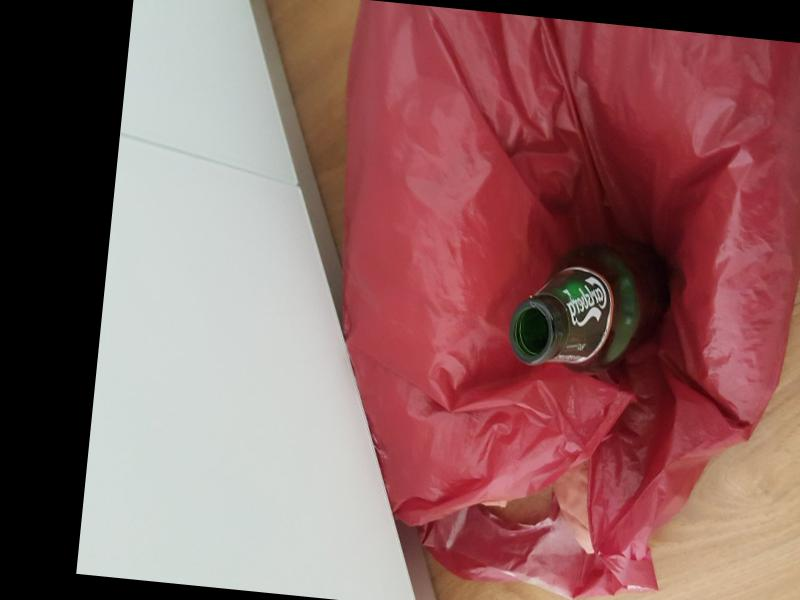Beer: (507, 235, 676, 378)
